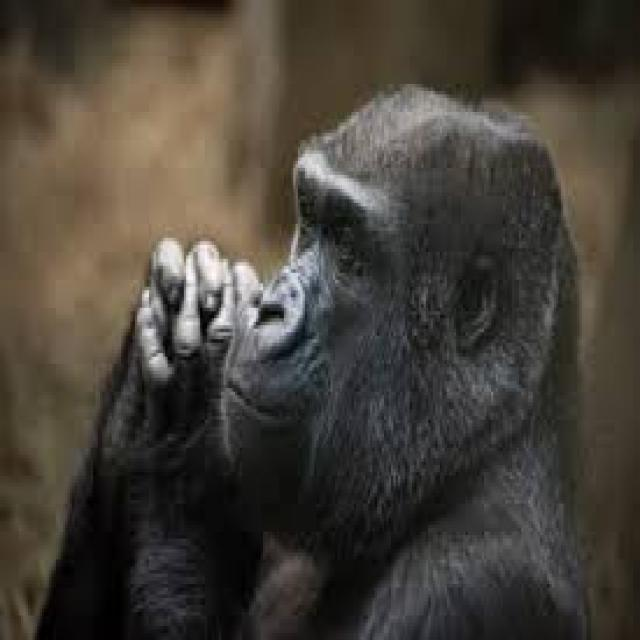Gorilla: (30, 73, 575, 640)
